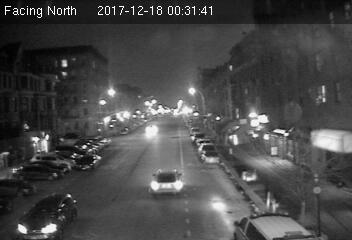car: (17, 192, 80, 240), (148, 166, 185, 198), (75, 154, 100, 168), (199, 151, 220, 165)
police: (229, 209, 316, 240)
